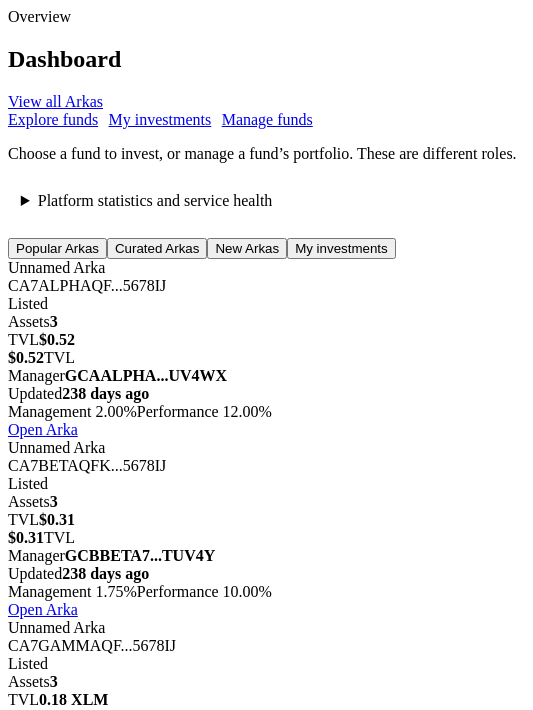
Test: DashboardSurface › renders honest empty copy when a featured lane has no entries
Expected: the heading "Dashboard" is shown, left=8, top=46, right=121, bottom=72
Click the button with test id "dashboard-featured-tab-curated": (157, 249) left=107, top=238, right=208, bottom=259
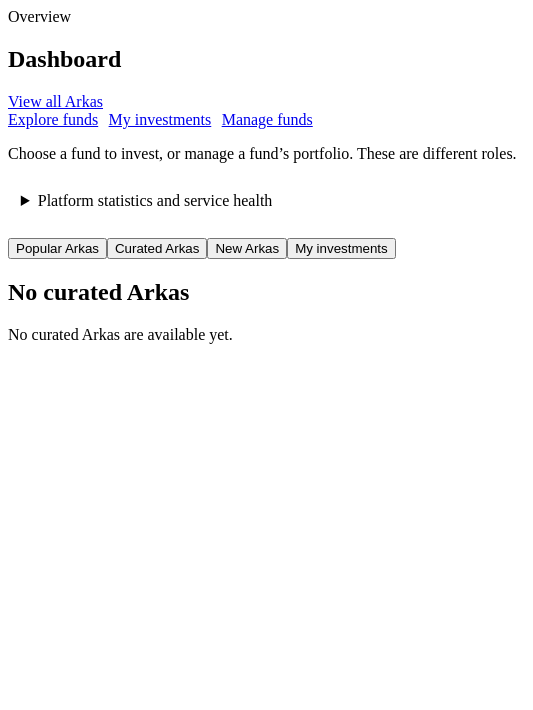
Expected: the element with test id "dashboard-featured-empty" shows "No curated Arkas", left=8, top=279, right=189, bottom=305
Expected: the element with test id "dashboard-featured-empty" shows "No curated Arkas are available yet", left=8, top=326, right=233, bottom=343
